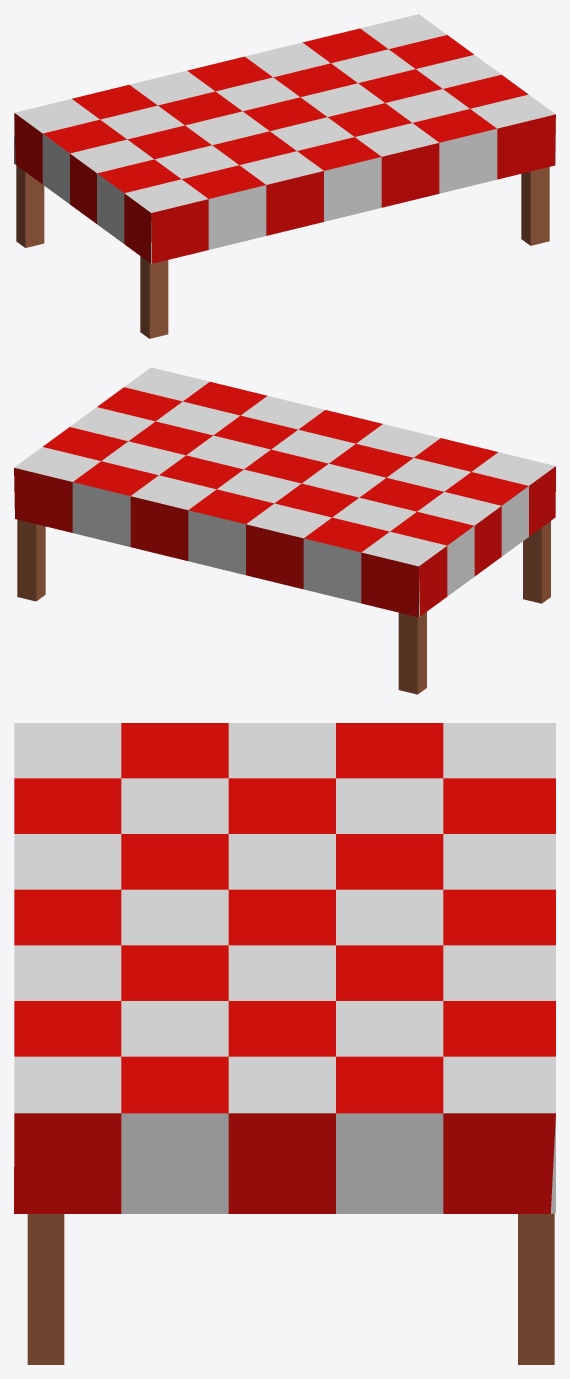
Rendered from Table_TFSGJ_Spring2025.fbx.
3 renders of one model, top to bottom at view 1: azimuth 30°, elevation 25°; view 2: azimuth 150°, elevation 25°; view 3: azimuth 270°, elevation 25°, orthographic. The views are drawn at different scales.
Parts seen in each view (by area): view 1: Cube; view 2: Cube; view 3: Cube.
Boxes of the visible parts, <box> form: Cube: <box>14,14,555,338</box>; Cube: <box>14,367,555,694</box>; Cube: <box>14,723,555,1364</box>.
Bounding box in the file's own units: 159 × 48.19 × 93.08.
